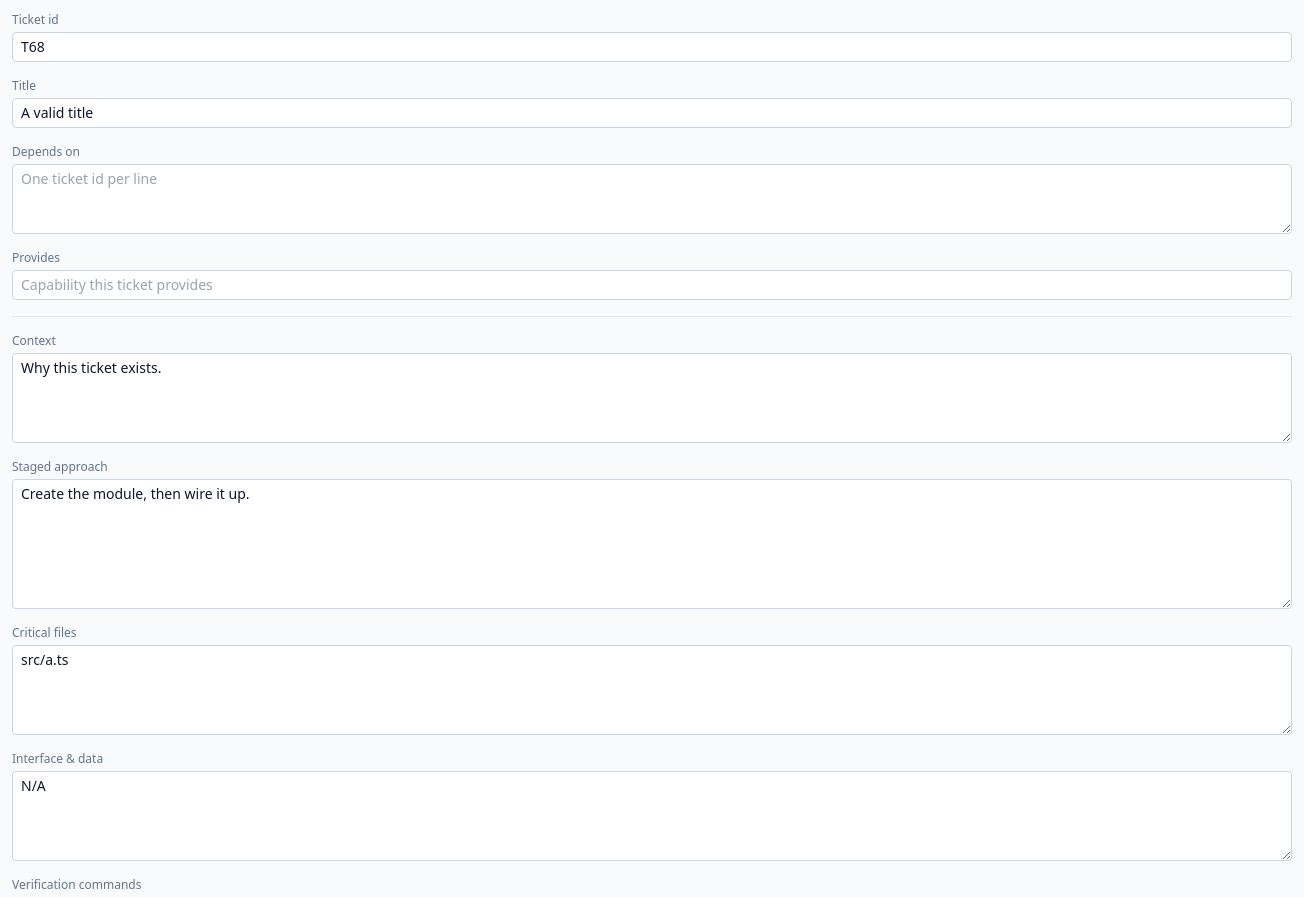
Scenario: TicketForm › typing an invalid id disables submit and shows the id error text
Replace the text in the field labelled "Ticket id" with "a b" at (652, 47), box [12, 32, 1292, 62]
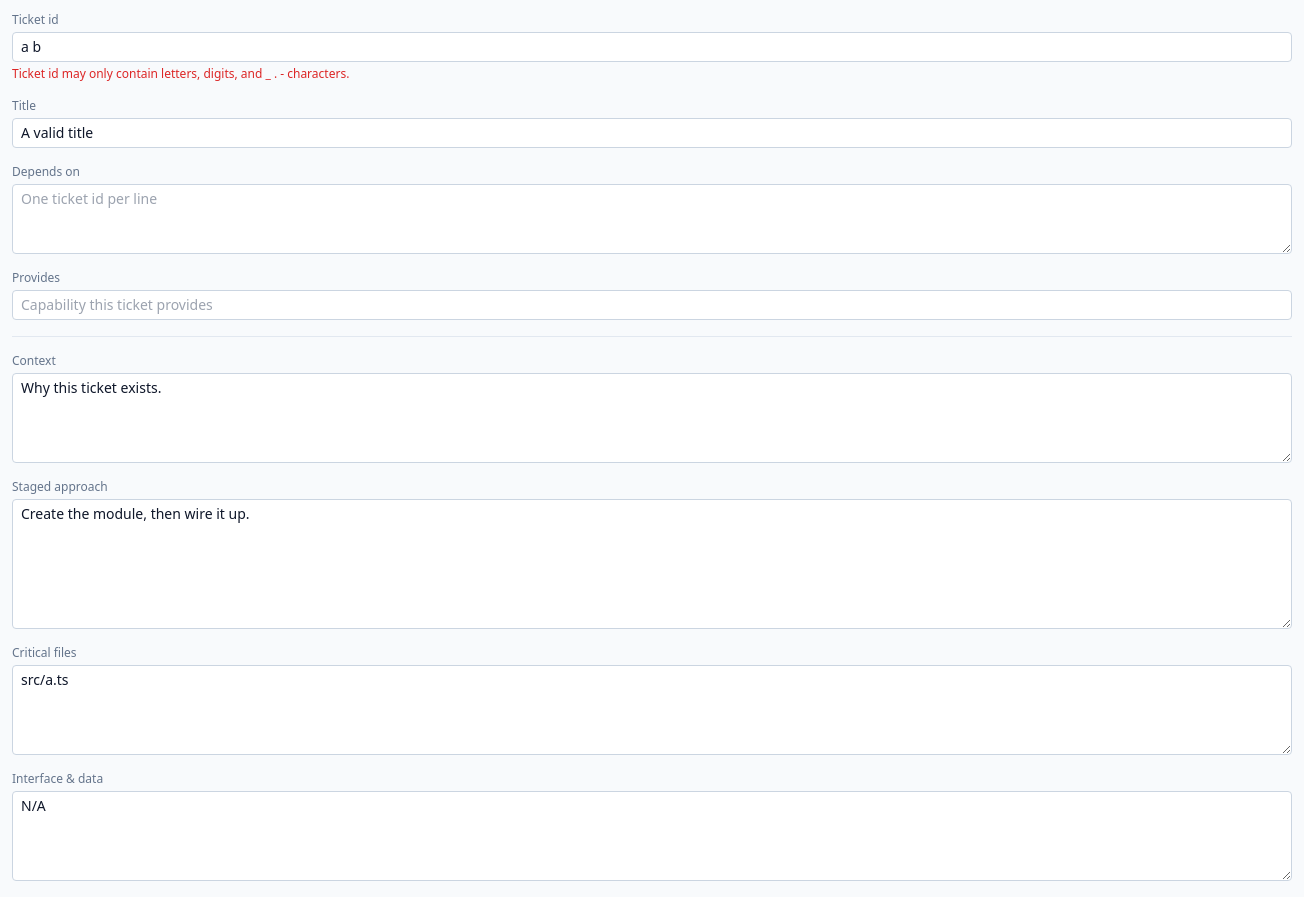
Check: the text "Ticket id may only contain letters, digits, and _ . - characters." is shown, box [12, 65, 349, 82]
